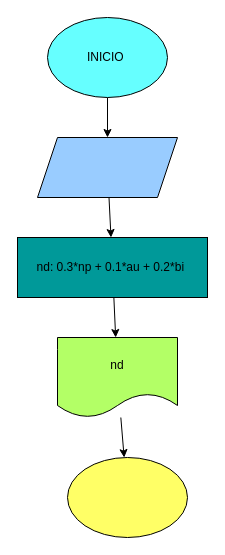
Image size: 225x555. Some labels were removed from this diagram. Here are the shapes that lost their labels. From the top down, the centre of each, then its label:
At point (107, 167): "nc,cp,na,au,bi".
At point (127, 497): "FIN".
